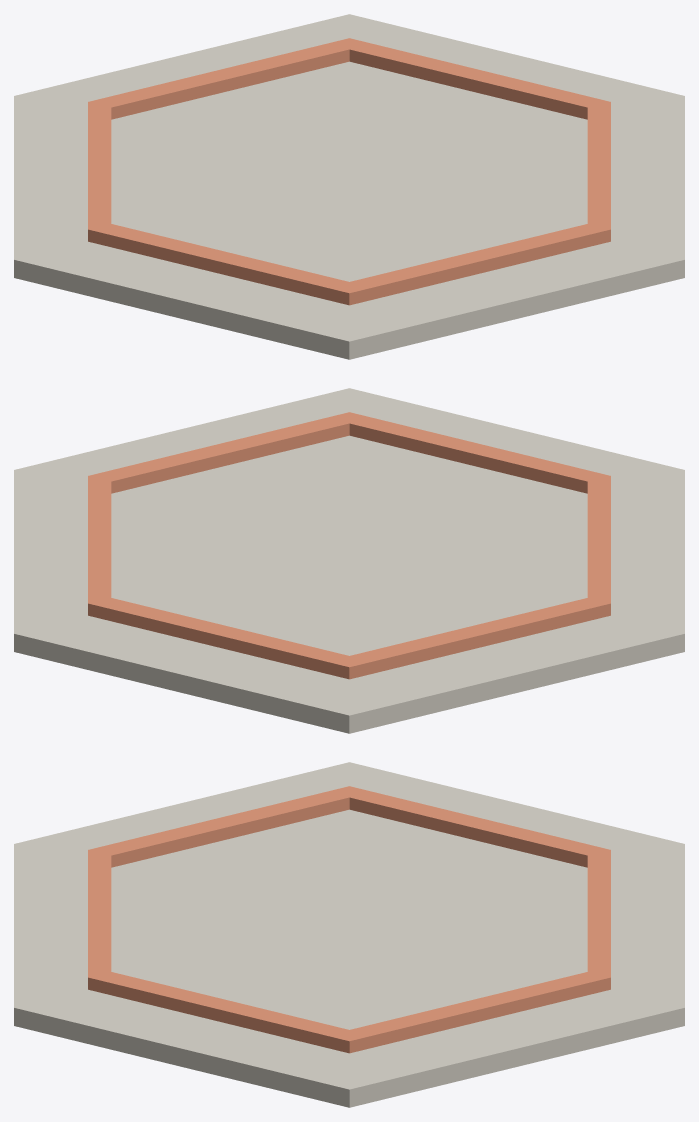
The model's file is rajola_hex.glb.
The picture shows the model from 3 angles, top to bottom: view 1: azimuth 30°, elevation 25°; view 2: azimuth 150°, elevation 25°; view 3: azimuth 270°, elevation 25°; orthographic projection.
Size of the model in its own units: 116 by 5 by 100.
